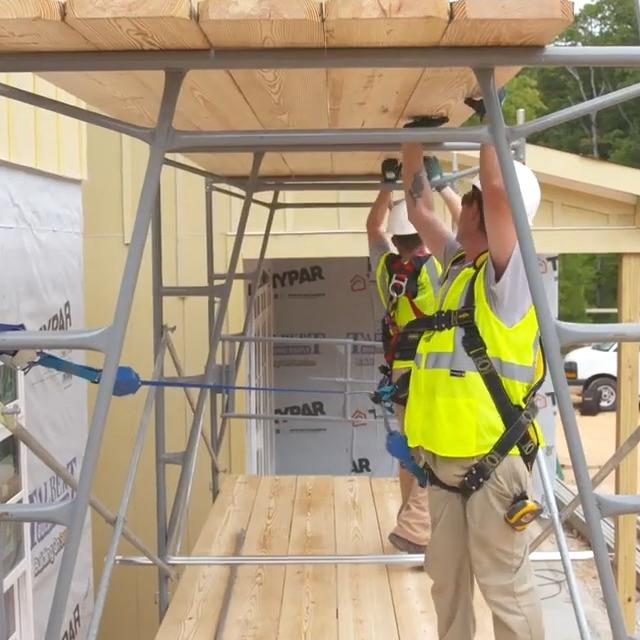Gloves: (466, 86, 508, 120), (422, 153, 449, 191), (380, 157, 404, 184), (402, 114, 449, 127)
Hardhat: (469, 159, 541, 231), (387, 200, 422, 235)
NO-Mask: (455, 198, 480, 243)
Person: (402, 91, 546, 640), (366, 154, 463, 558)
Safety Vest: (404, 249, 541, 456), (377, 246, 444, 367)
van: (563, 304, 640, 416)
